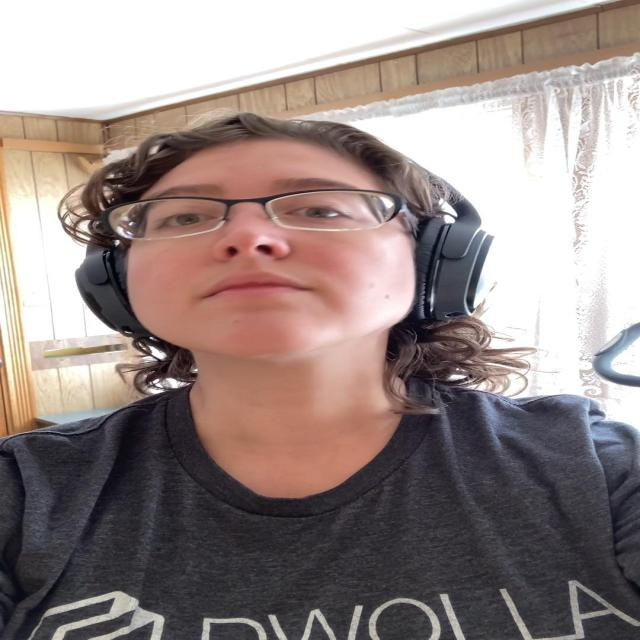no-helmet: (114, 140, 418, 361)
